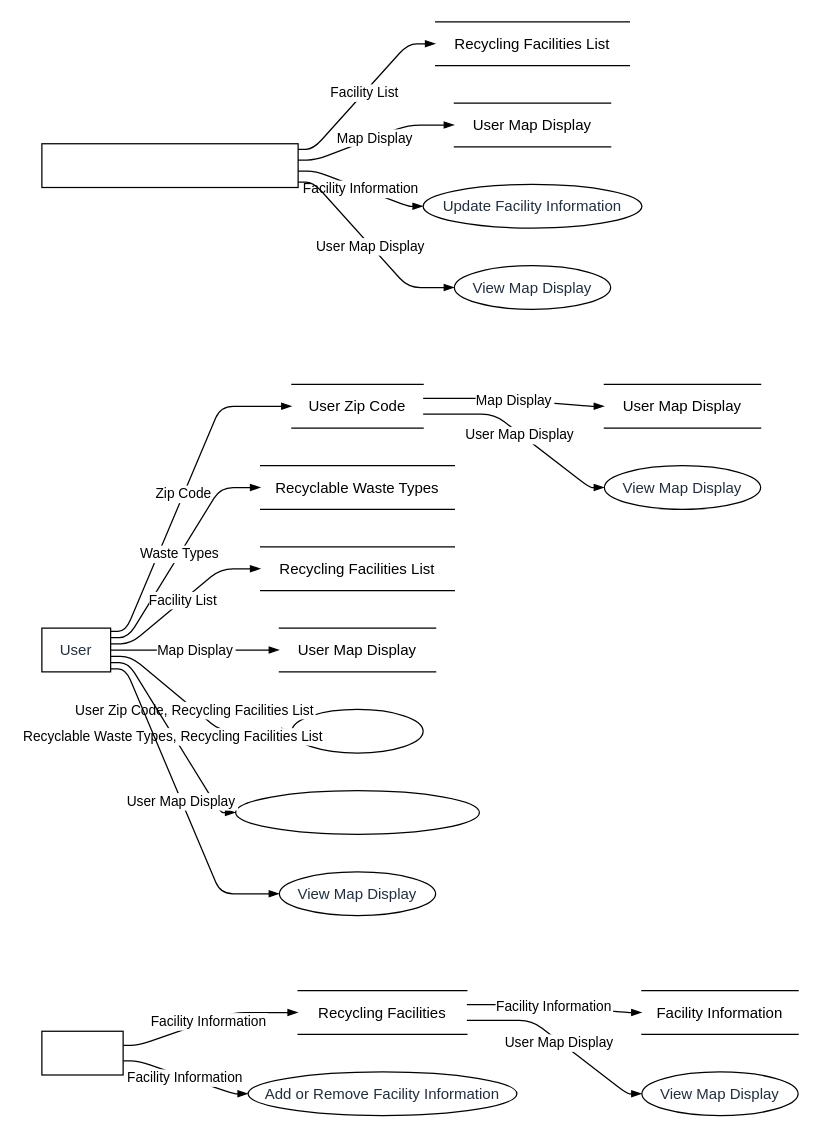
Image size: 820x1138. Some labels were removed from this diagram. The centre of each missing label's shape, as x and y in pixels:
Admin: the point at 82,1052
Enter Zip Code: the point at 357,730
Recycling Facility Representative: the point at 169,165
Select Recyclable Waste Types: the point at 356,811
